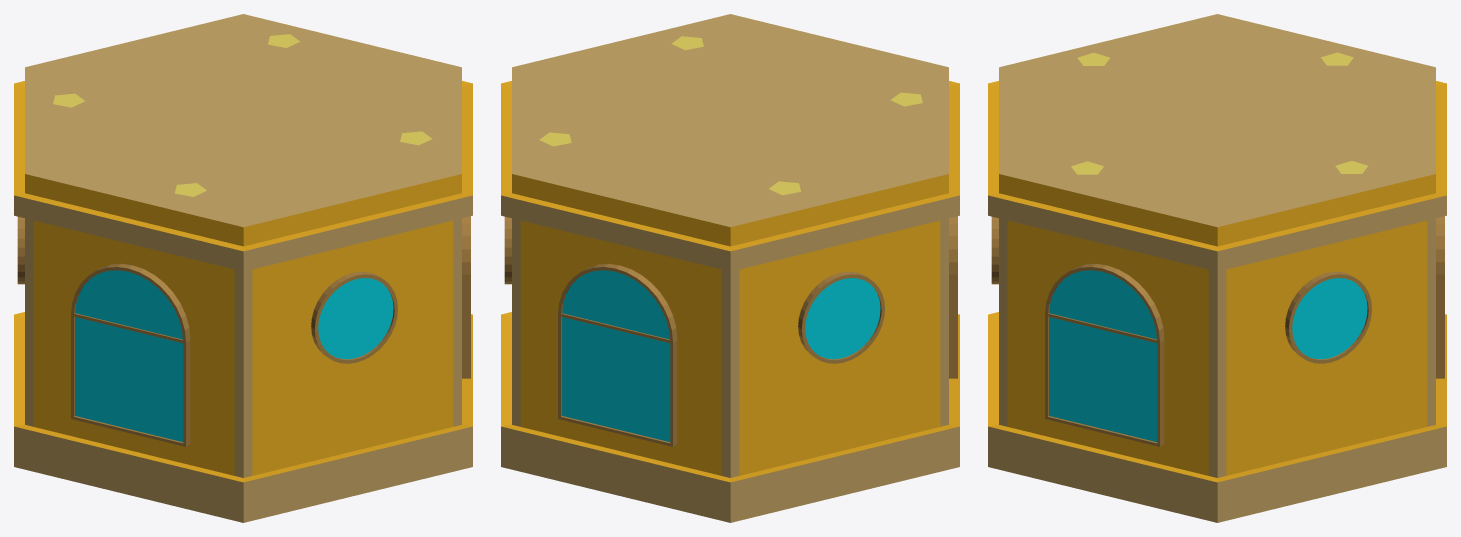
File: blok kuning.glb
3 views of the same model, side by side, from view 1: azimuth 30°, elevation 25°; view 2: azimuth 150°, elevation 25°; view 3: azimuth 270°, elevation 25° (orthographic).
Visible parts, largest first — view 1: Circle.008, Cylinder.004, Cylinder.007, Cylinder.010, Circle.005, Cylinder.009; view 2: Circle.008, Cylinder.011, Cylinder.009, Cylinder.004, Circle.005, Cylinder.008; view 3: Circle.008, Cylinder.010, Cylinder.008, Cylinder.011, Circle.005, Cylinder.007.
Boxes of the visible parts, left/top/right/bottom form: Circle.008: left=14, top=14, right=472, bottom=522; Cylinder.004: left=71, top=263, right=190, bottom=446; Cylinder.007: left=311, top=271, right=397, bottom=363; Cylinder.010: left=462, top=216, right=470, bottom=378; Circle.005: left=53, top=34, right=431, bottom=196; Cylinder.009: left=17, top=216, right=24, bottom=284; Circle.008: left=501, top=14, right=959, bottom=522; Cylinder.011: left=558, top=263, right=677, bottom=446; Cylinder.009: left=798, top=271, right=884, bottom=363; Cylinder.004: left=949, top=216, right=957, bottom=378; Circle.005: left=539, top=36, right=922, bottom=195; Cylinder.008: left=504, top=216, right=511, bottom=284; Circle.008: left=988, top=14, right=1446, bottom=522; Cylinder.010: left=1045, top=263, right=1164, bottom=446; Cylinder.008: left=1285, top=271, right=1371, bottom=363; Cylinder.011: left=1436, top=216, right=1444, bottom=378; Circle.005: left=1071, top=52, right=1367, bottom=174; Cylinder.007: left=991, top=216, right=998, bottom=284.
Size of the model in its own units: 3.32 by 2.04 by 2.87.
